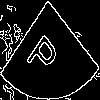P: (24, 25, 64, 81)
